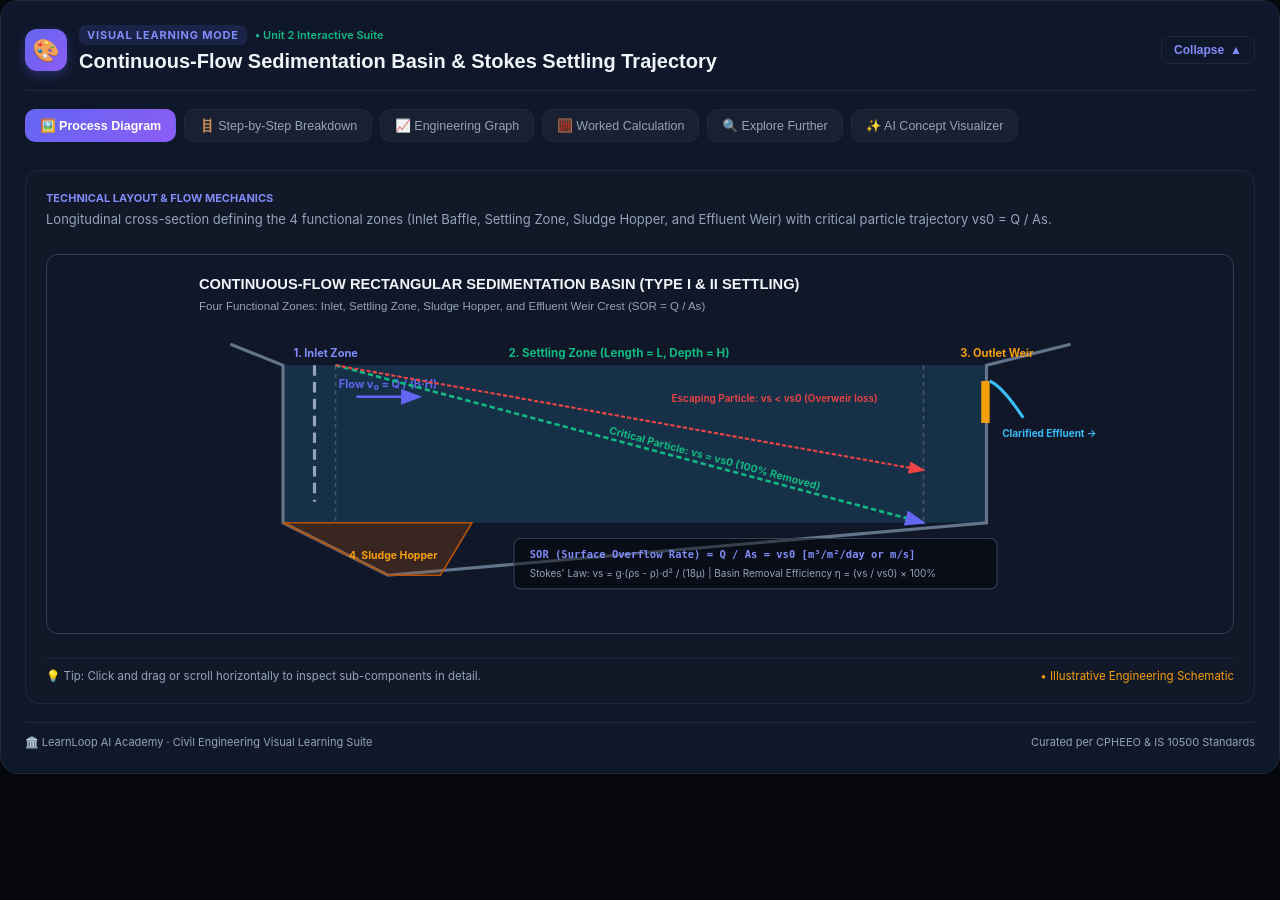
Test: Visual Learning Mode for Unit 2 (Water Treatment Units) › Engineering Graph tab renders Recharts container and key GATE CE takeaway
Click the tab "📈 Engineering Graph".
click(457, 126)  # box [380, 109, 534, 142]
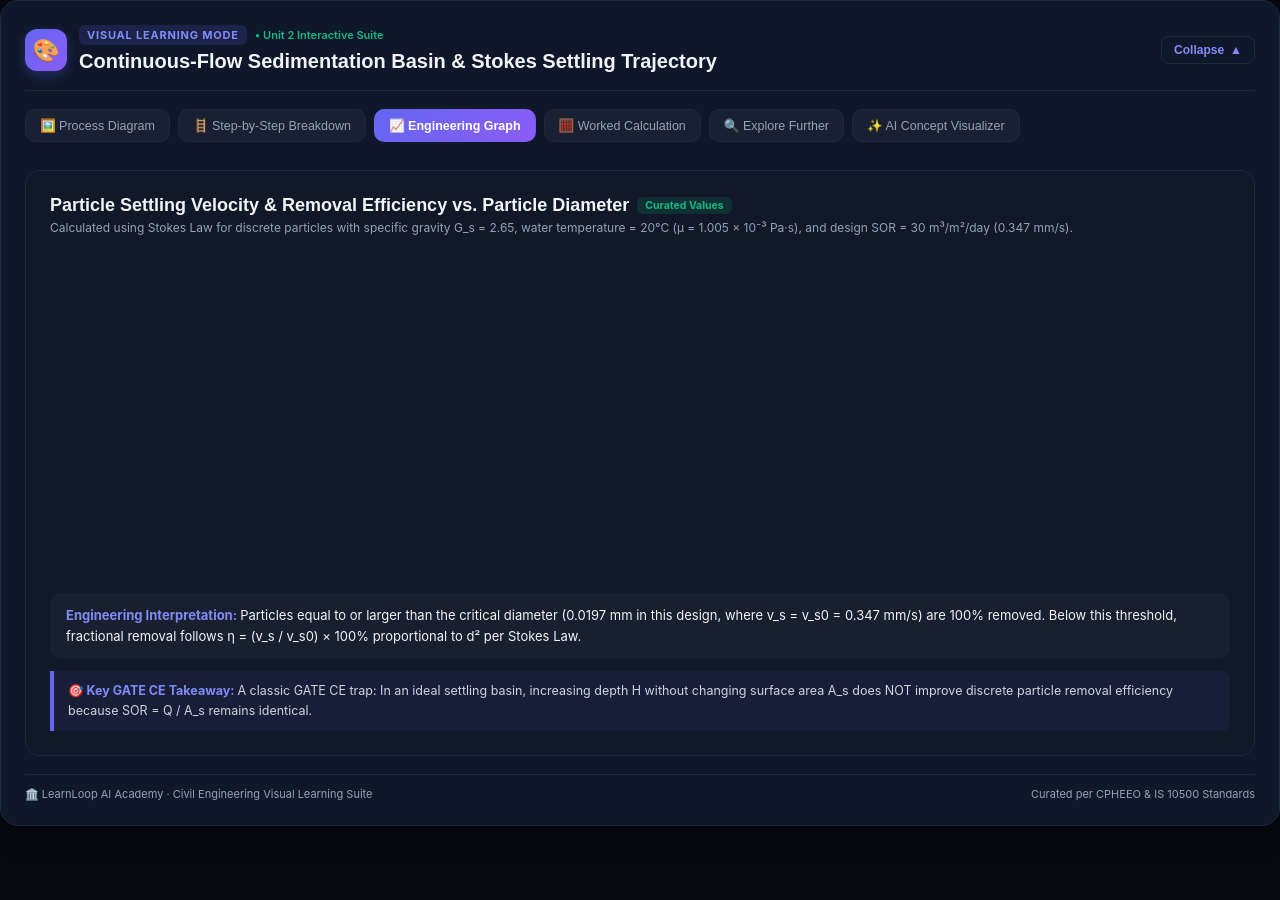
Now the heading "Particle Settling Velocity & Removal Efficiency" is shown, box [50, 195, 629, 216]
Now the text "🎯 Key GATE CE Takeaway:" is shown, box [68, 683, 238, 698]
Now the text "Engineering Interpretation:" is shown, box [66, 607, 240, 623]
